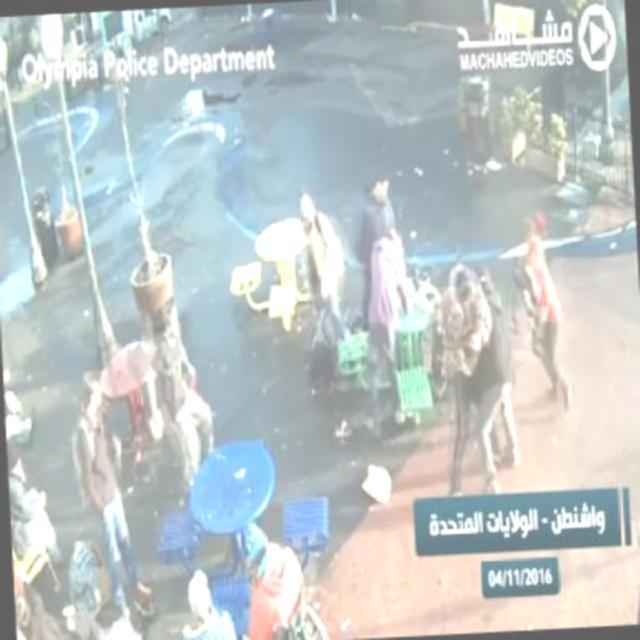fight: (422, 244, 522, 496)
